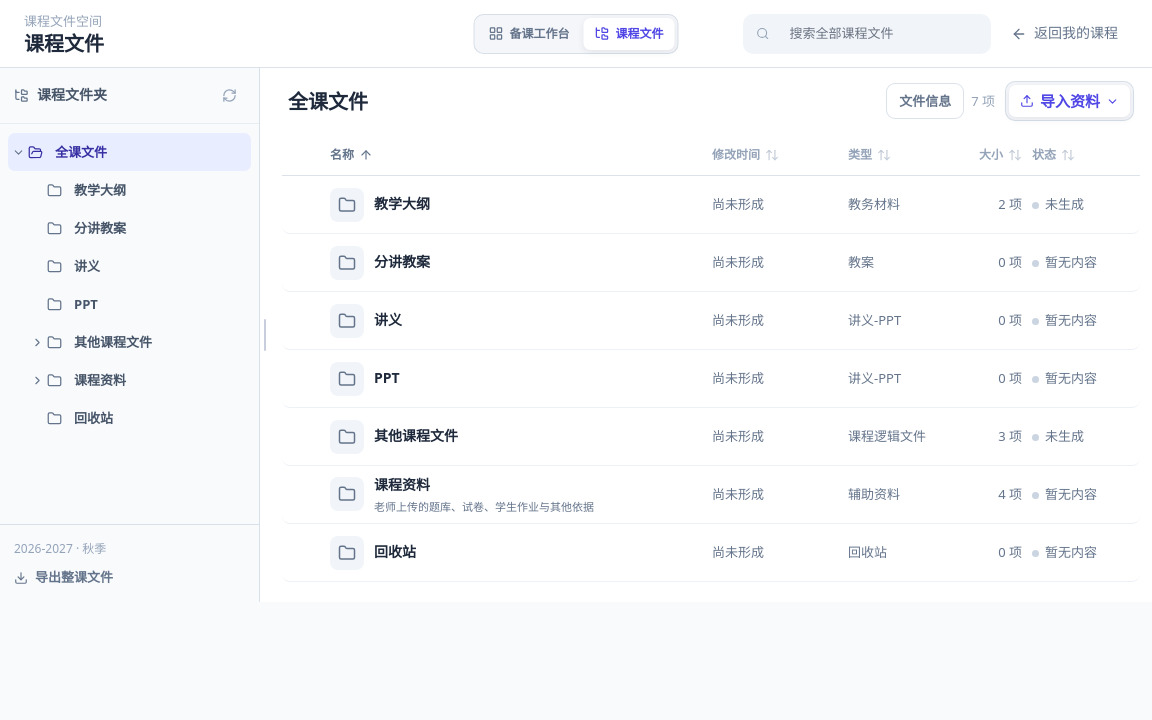
Scenario: TeacherCourseSpaceView › keeps narrow desktop lists readable and lets the user reopen and close file details
Click the button with class "inspector-toggle" at (925, 101), box 886,83 -> 964,119
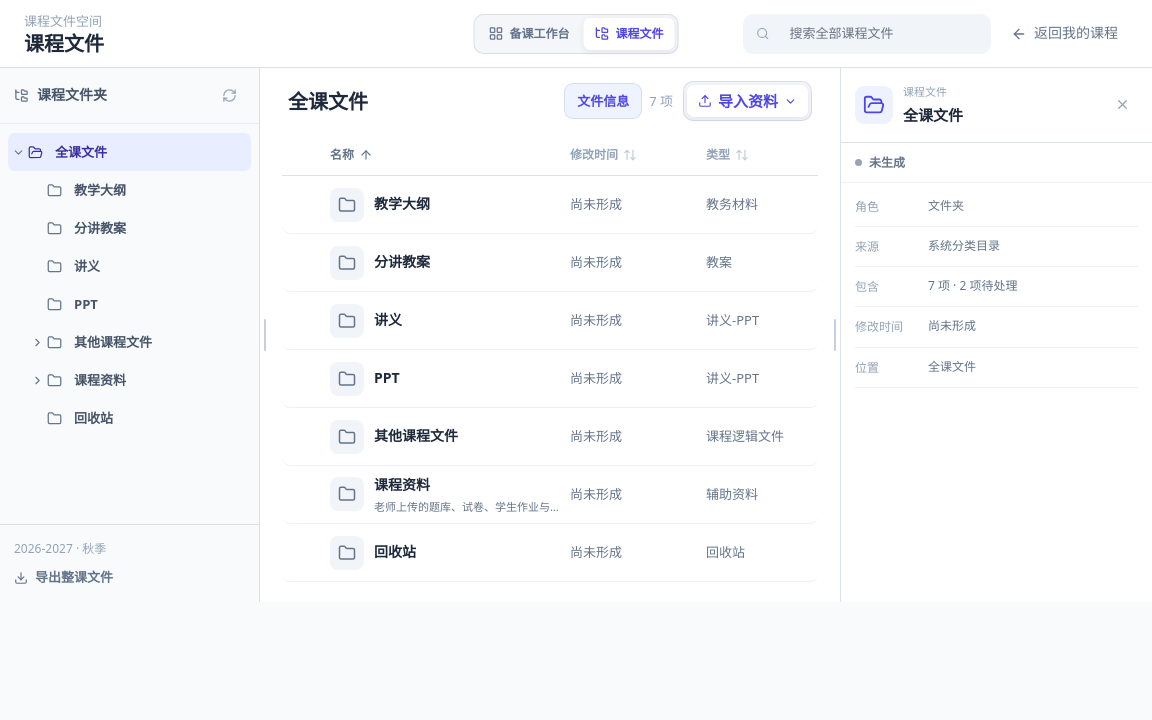
Click the button named "收起文件信息" at (1122, 105), box 1106,89 -> 1138,121
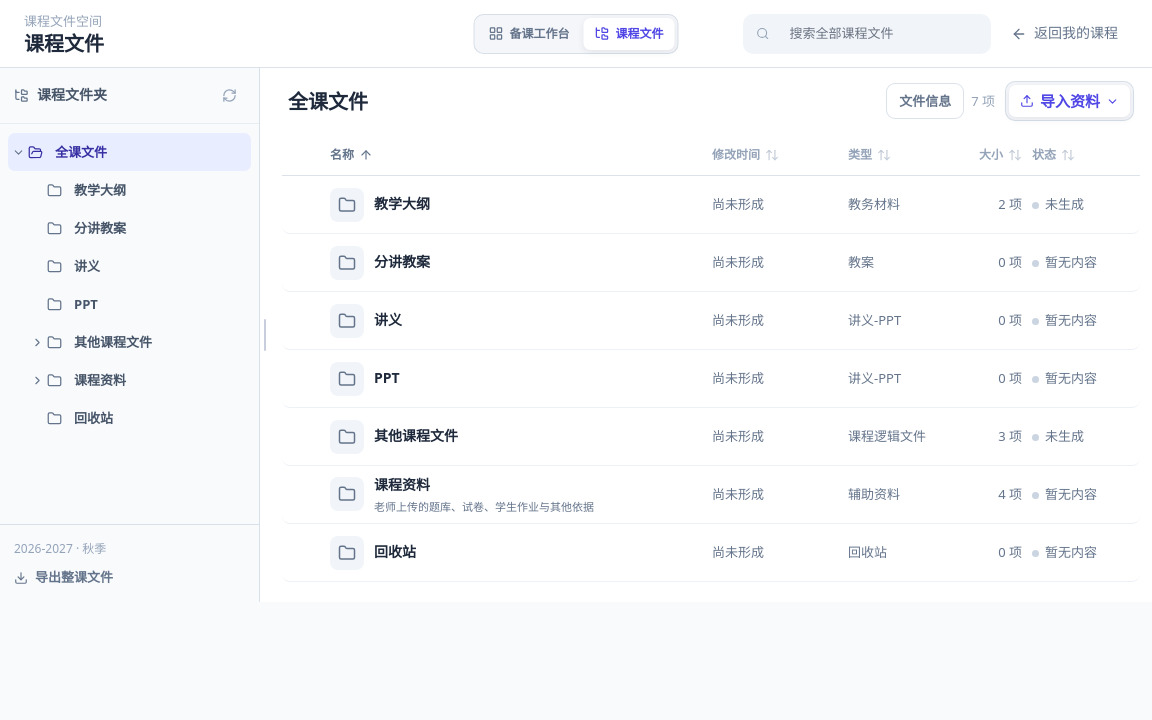
Expected: the element with class "file-layout" has class "is-inspector-collapsed"
Click the row with class "file-row" showing "分讲教案 尚未形成 教案 0 项 暂无内容" at (711, 263), box 282,234 -> 1140,292
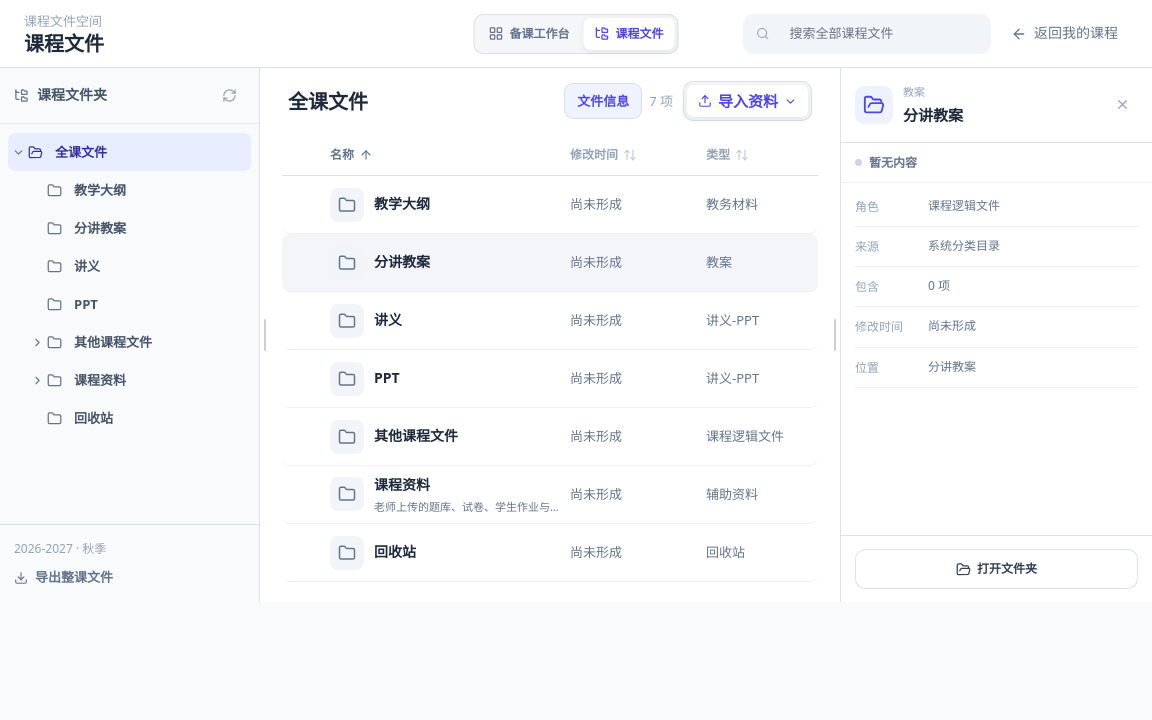
Expected: the element with class "file-inspector" shows "分讲教案", 903,105 -> 963,125
